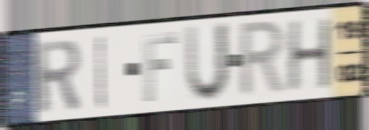F: (142, 31, 179, 104)
H: (286, 15, 333, 94)
I: (95, 33, 106, 112)
R: (237, 17, 288, 101), (33, 37, 82, 116)
U: (183, 20, 232, 105)
